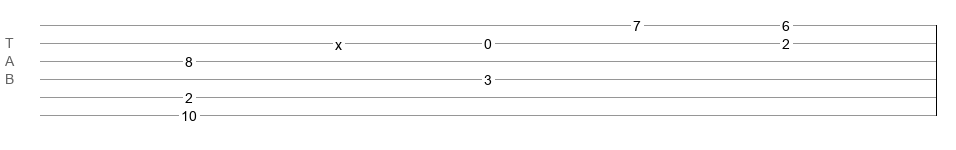0: (484, 36, 492, 46)
10: (181, 108, 197, 118)
2: (185, 90, 193, 100), (782, 36, 790, 46)
3: (484, 72, 492, 82)
6: (782, 18, 790, 28)
7: (633, 18, 641, 28)
8: (185, 54, 193, 64)
x: (335, 37, 342, 45)
